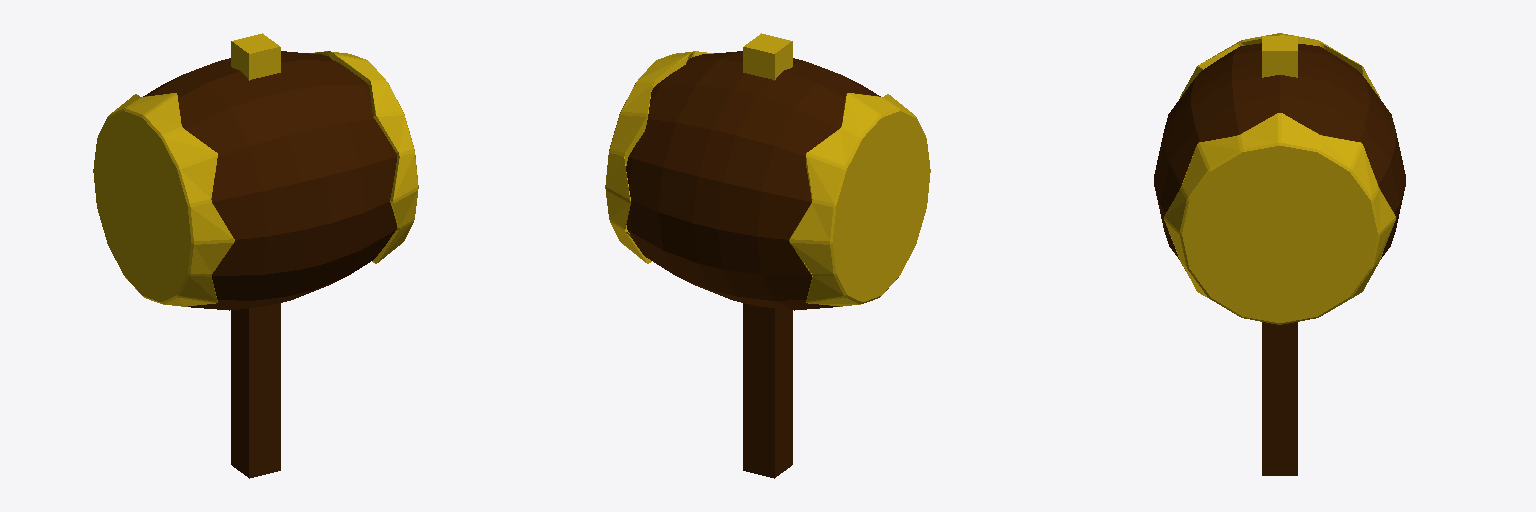
Rendered from hammer.obj.
3 renders of one model, left to right at view 1: azimuth 30°, elevation 25°; view 2: azimuth 150°, elevation 25°; view 3: azimuth 270°, elevation 25°, orthographic.
Parts seen in each view (by area): view 1: Hammer_Cube.002; view 2: Hammer_Cube.002; view 3: Hammer_Cube.002.
Part boxes in pixels (bbox=[...]): Hammer_Cube.002: bbox=[93, 33, 418, 478]; Hammer_Cube.002: bbox=[605, 33, 930, 478]; Hammer_Cube.002: bbox=[1154, 33, 1405, 475].
Bounding box in the file's own units: 1.59 × 2.83 × 1.52.